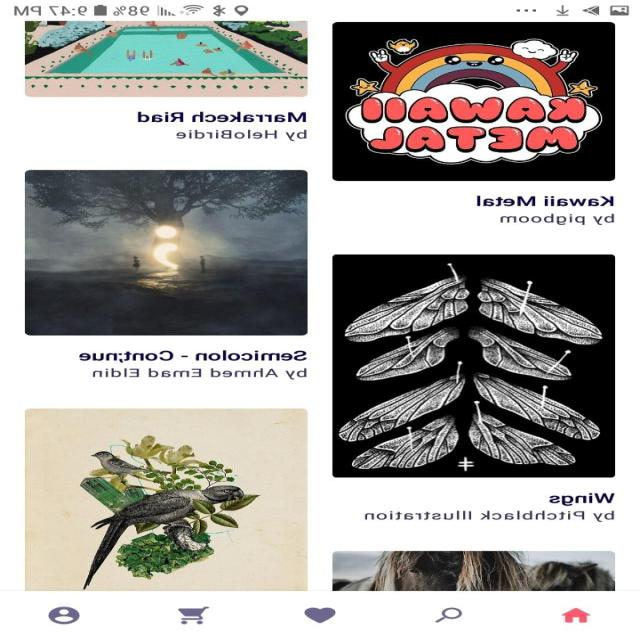Icon: (48, 605, 81, 624), (178, 605, 210, 624), (304, 606, 337, 623), (436, 606, 464, 623), (561, 607, 592, 622)
Image: (332, 254, 616, 478), (26, 408, 310, 590), (24, 170, 308, 336), (332, 21, 616, 181), (25, 21, 308, 98), (332, 550, 616, 591)
Text: (364, 509, 616, 522), (79, 350, 309, 363), (94, 367, 308, 380), (138, 110, 308, 122), (176, 128, 308, 141), (500, 213, 616, 226), (476, 196, 616, 206), (548, 492, 614, 506)
